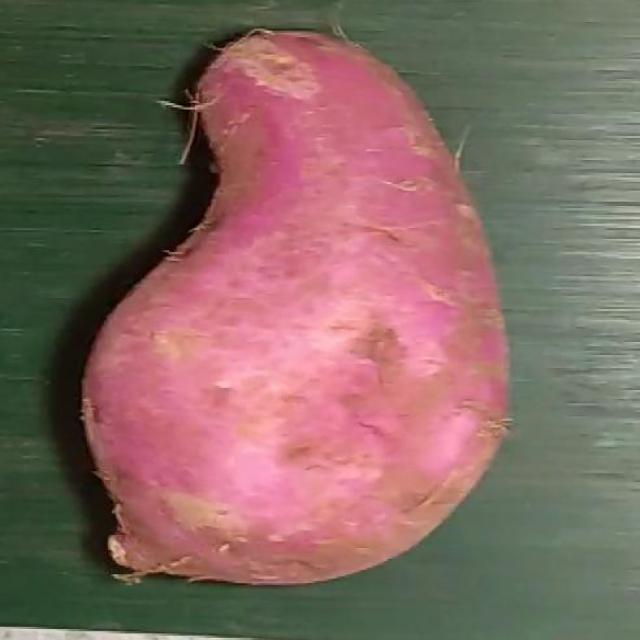Sweet Potato: (79, 28, 510, 586)
